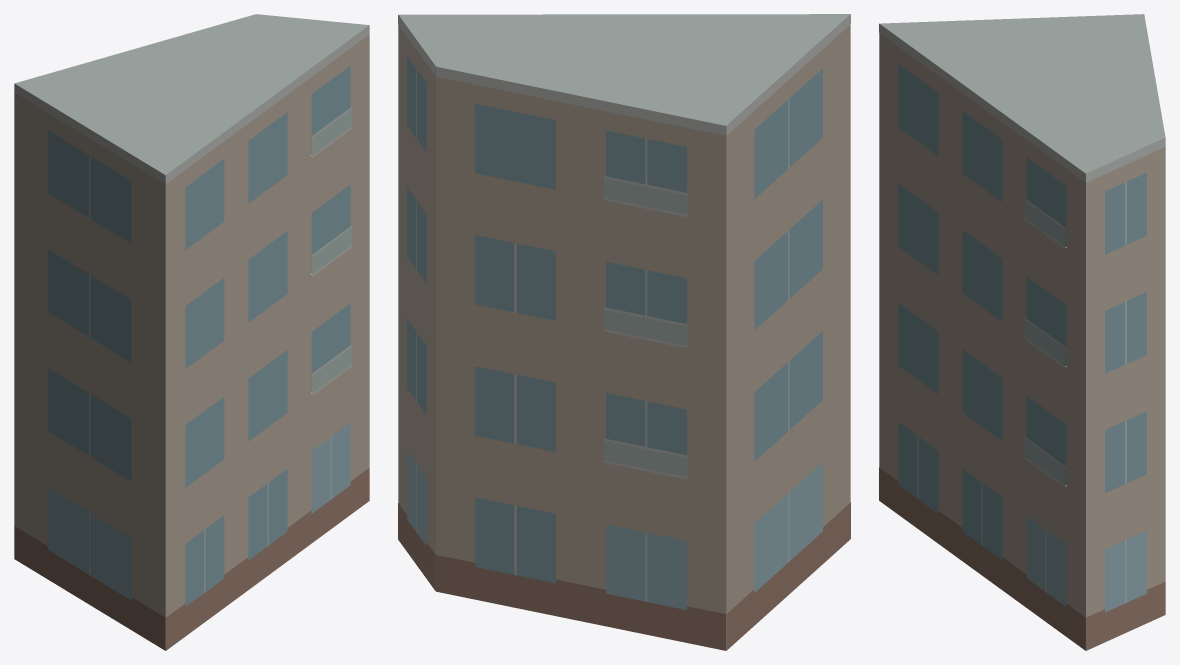
Rendered from survey-upis-32504545.glb.
3 views of the same model, side by side, from view 1: azimuth 30°, elevation 25°; view 2: azimuth 150°, elevation 25°; view 3: azimuth 270°, elevation 25° (orthographic). The views are drawn at different scales.
Visible parts, largest first — view 1: survey-upis-32504545.tmp; view 2: survey-upis-32504545.tmp; view 3: survey-upis-32504545.tmp.
Boxes of the visible parts, left/top/right/bottom form: survey-upis-32504545.tmp: left=14, top=14, right=369, bottom=650; survey-upis-32504545.tmp: left=398, top=14, right=850, bottom=650; survey-upis-32504545.tmp: left=879, top=14, right=1165, bottom=650.
Size of the model in its own units: 9.2 by 12.8 by 6.97.
